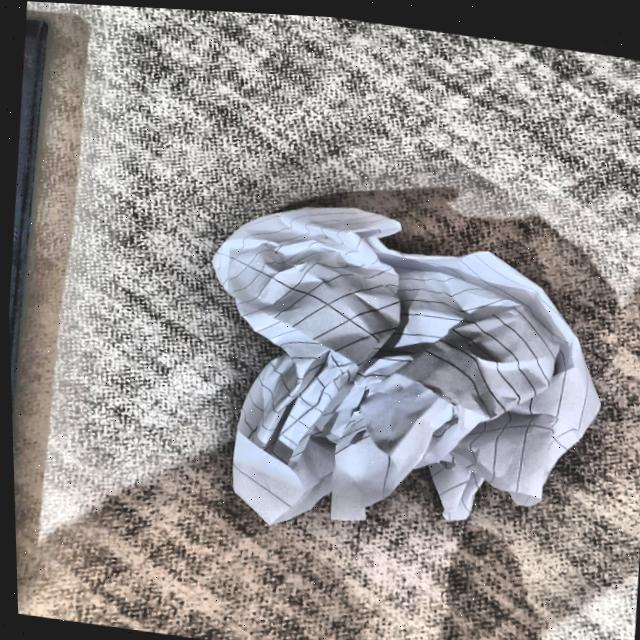paper: (184, 185, 606, 562)
